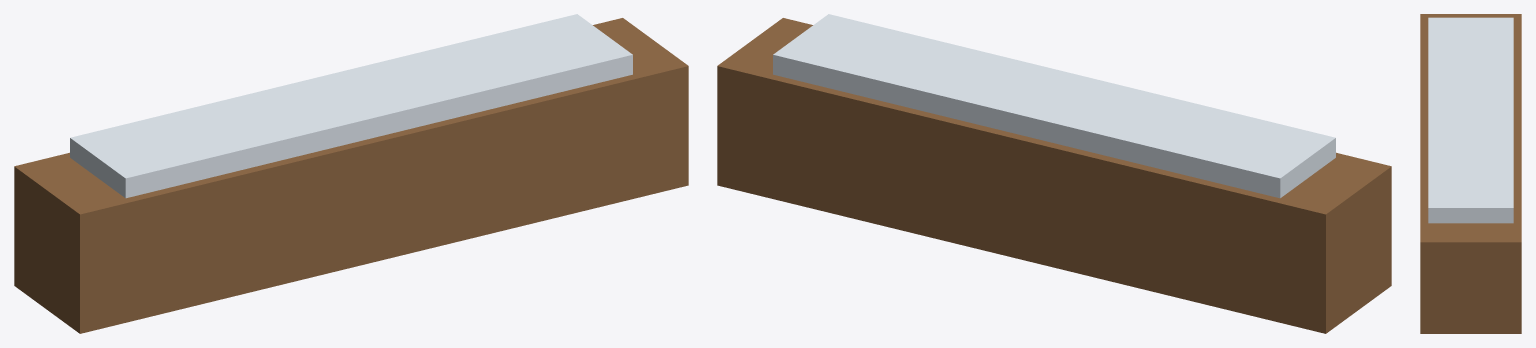
The model's file is Mush_MapProp_FallenLog_V2.fbx.
3 views of the same model, side by side, from view 1: azimuth 30°, elevation 25°; view 2: azimuth 150°, elevation 25°; view 3: azimuth 270°, elevation 25° (orthographic). The views are drawn at different scales.
Visible parts, largest first — view 1: Mush_MapProp_FallenLog_V2; view 2: Mush_MapProp_FallenLog_V2; view 3: Mush_MapProp_FallenLog_V2.
Boxes of the visible parts, x1=… form: Mush_MapProp_FallenLog_V2: x1=14, y1=14, x2=688, y2=333; Mush_MapProp_FallenLog_V2: x1=717, y1=14, x2=1391, y2=333; Mush_MapProp_FallenLog_V2: x1=1420, y1=14, x2=1521, y2=333.
Size of the model in its own units: 240 by 52.5 by 45.
